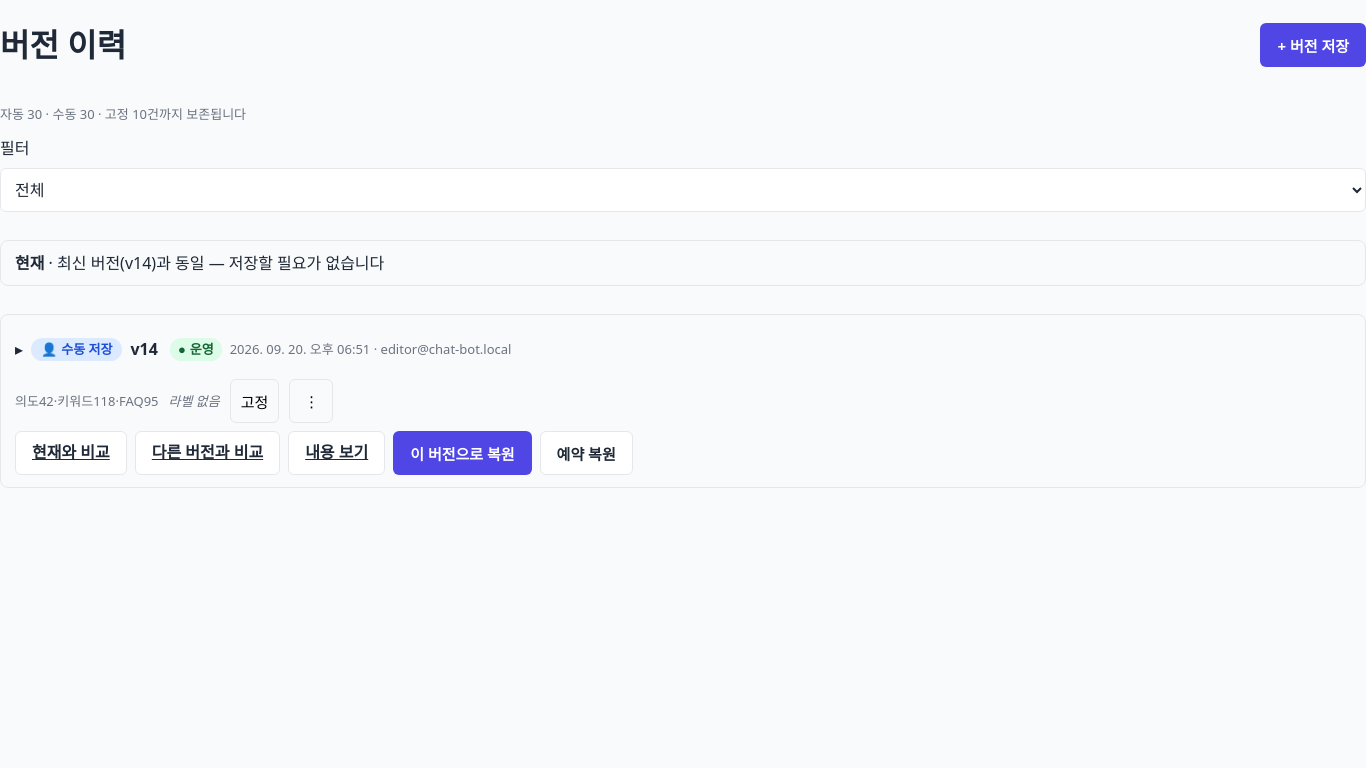
Test: VersionListPage › VERSION_REFERENCED_BY_ENVIRONMENT(409) — 삭제 시 환경이 참조 중이면 인라인 오류와 환경 탭 링크가 표시된다(§4.12)
The width and height of the screenshot is (1366, 768).
Expected: the text "v14" is shown, [130,337,158,361]
Click the button named "v14 관리".
click(311, 401)  # box [289,379,333,423]
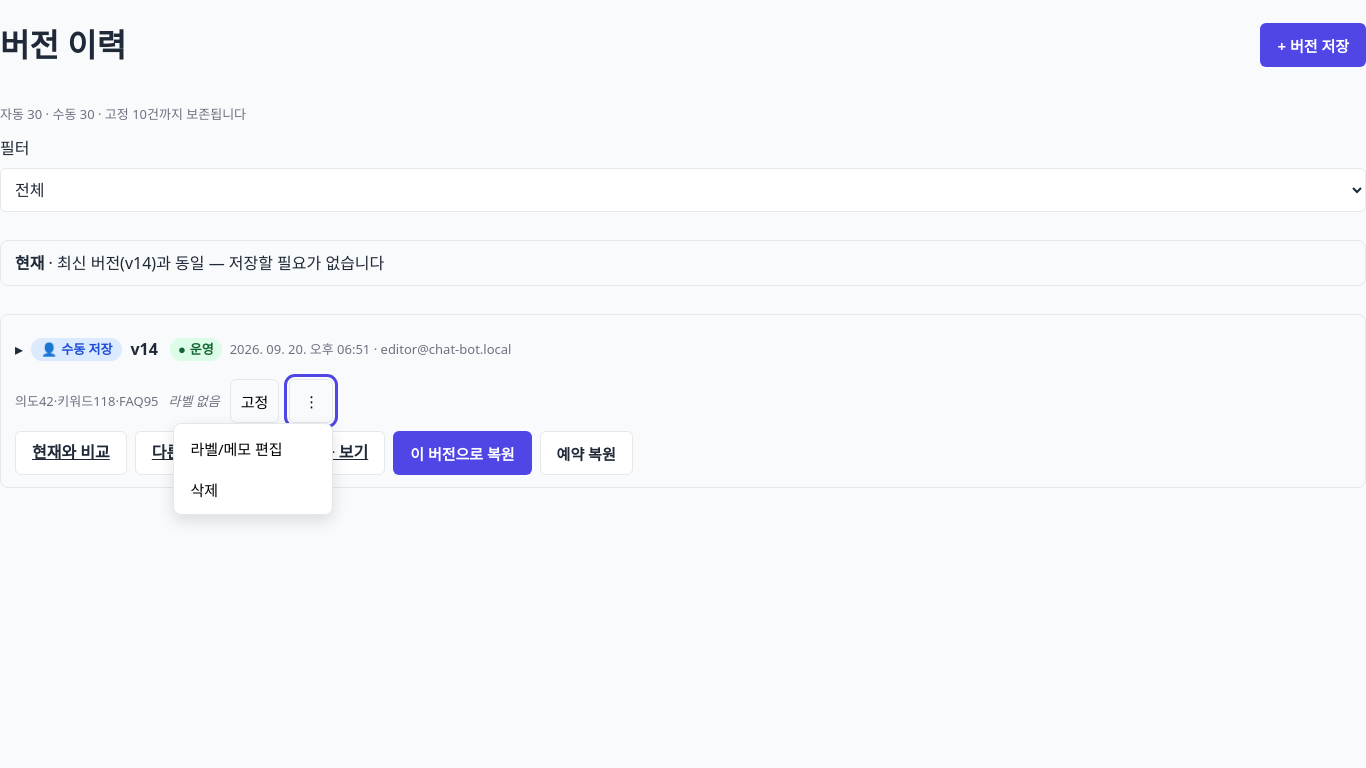
Click the menu item "삭제".
click(253, 490)  # box [178,469,328,510]
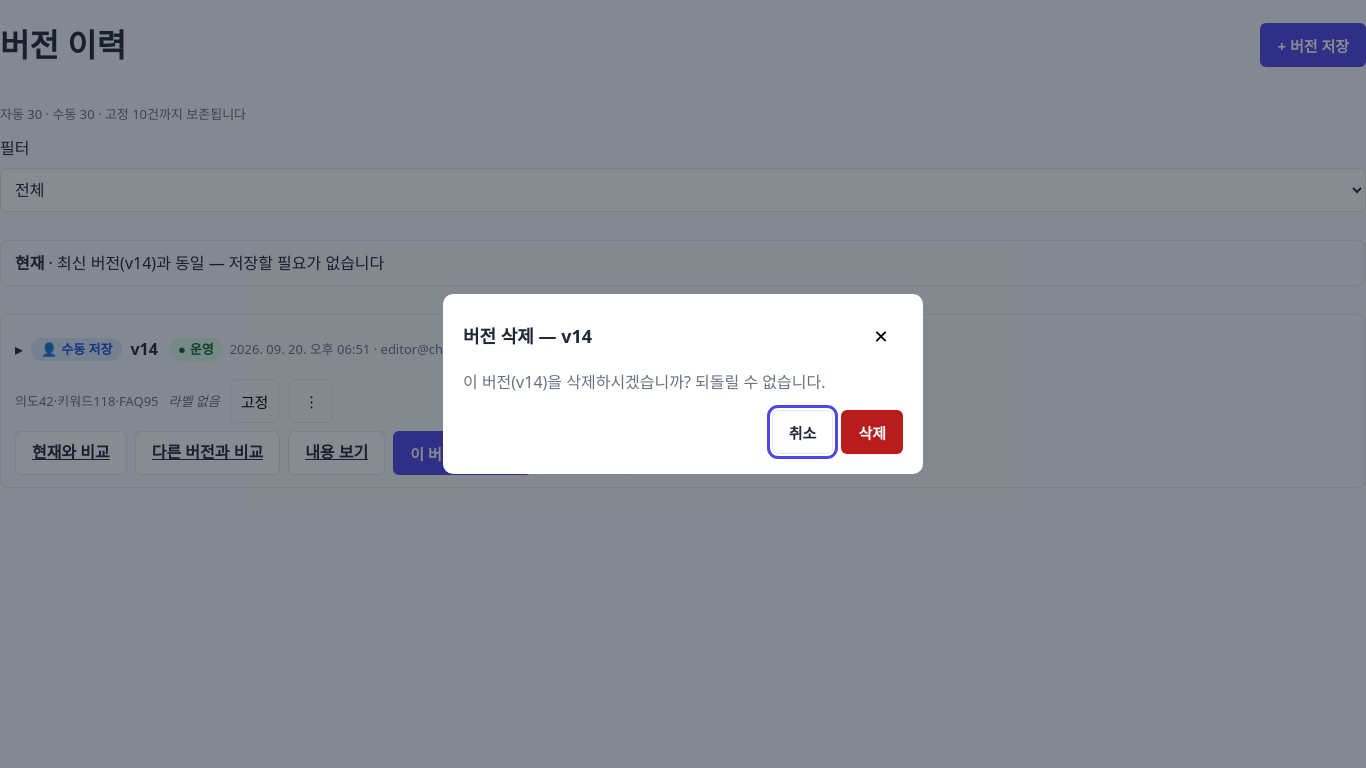
Click the button "삭제".
click(872, 432)  # box [841,410,903,454]
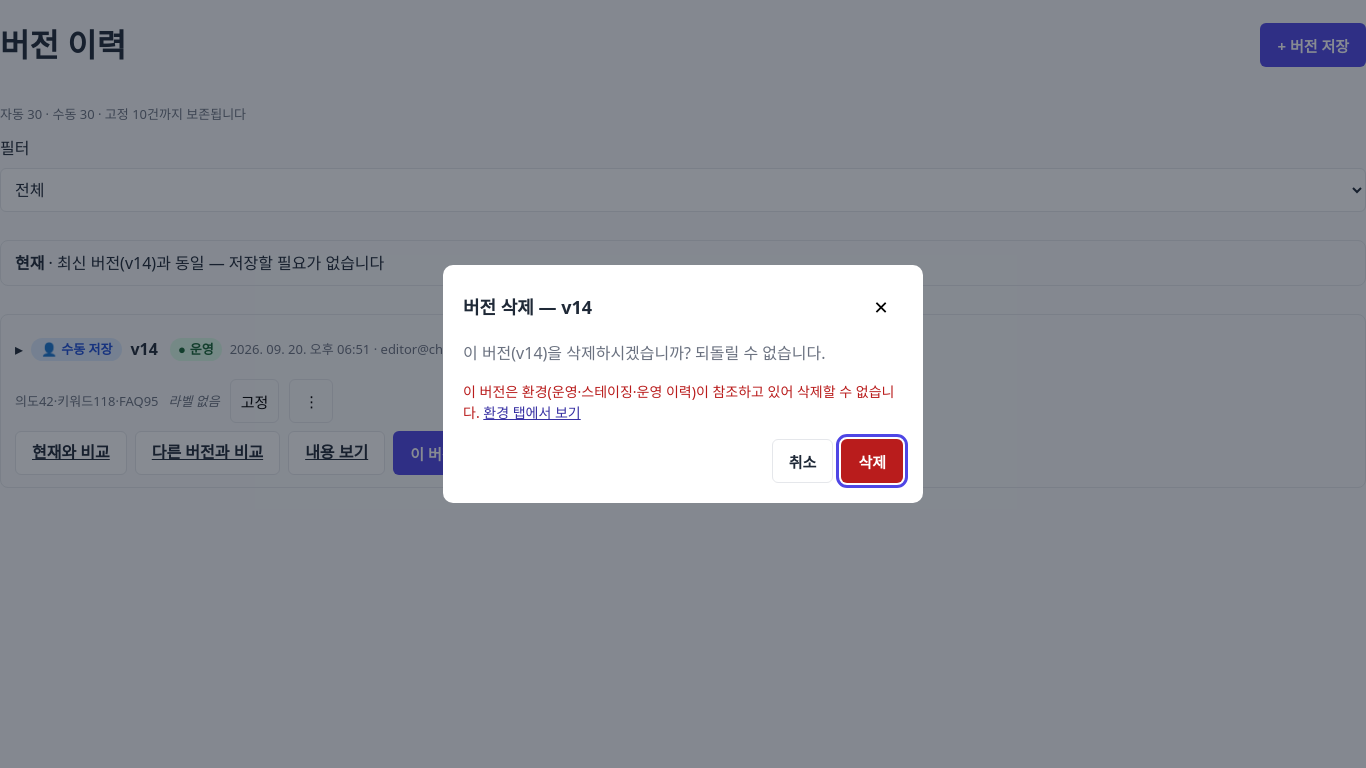
Expected: the text "이 버전은 환경(운영·스테이징·운영 이력)이 참조하고 있어 삭제할 수 없습니다." is shown, [463,382,894,422]
